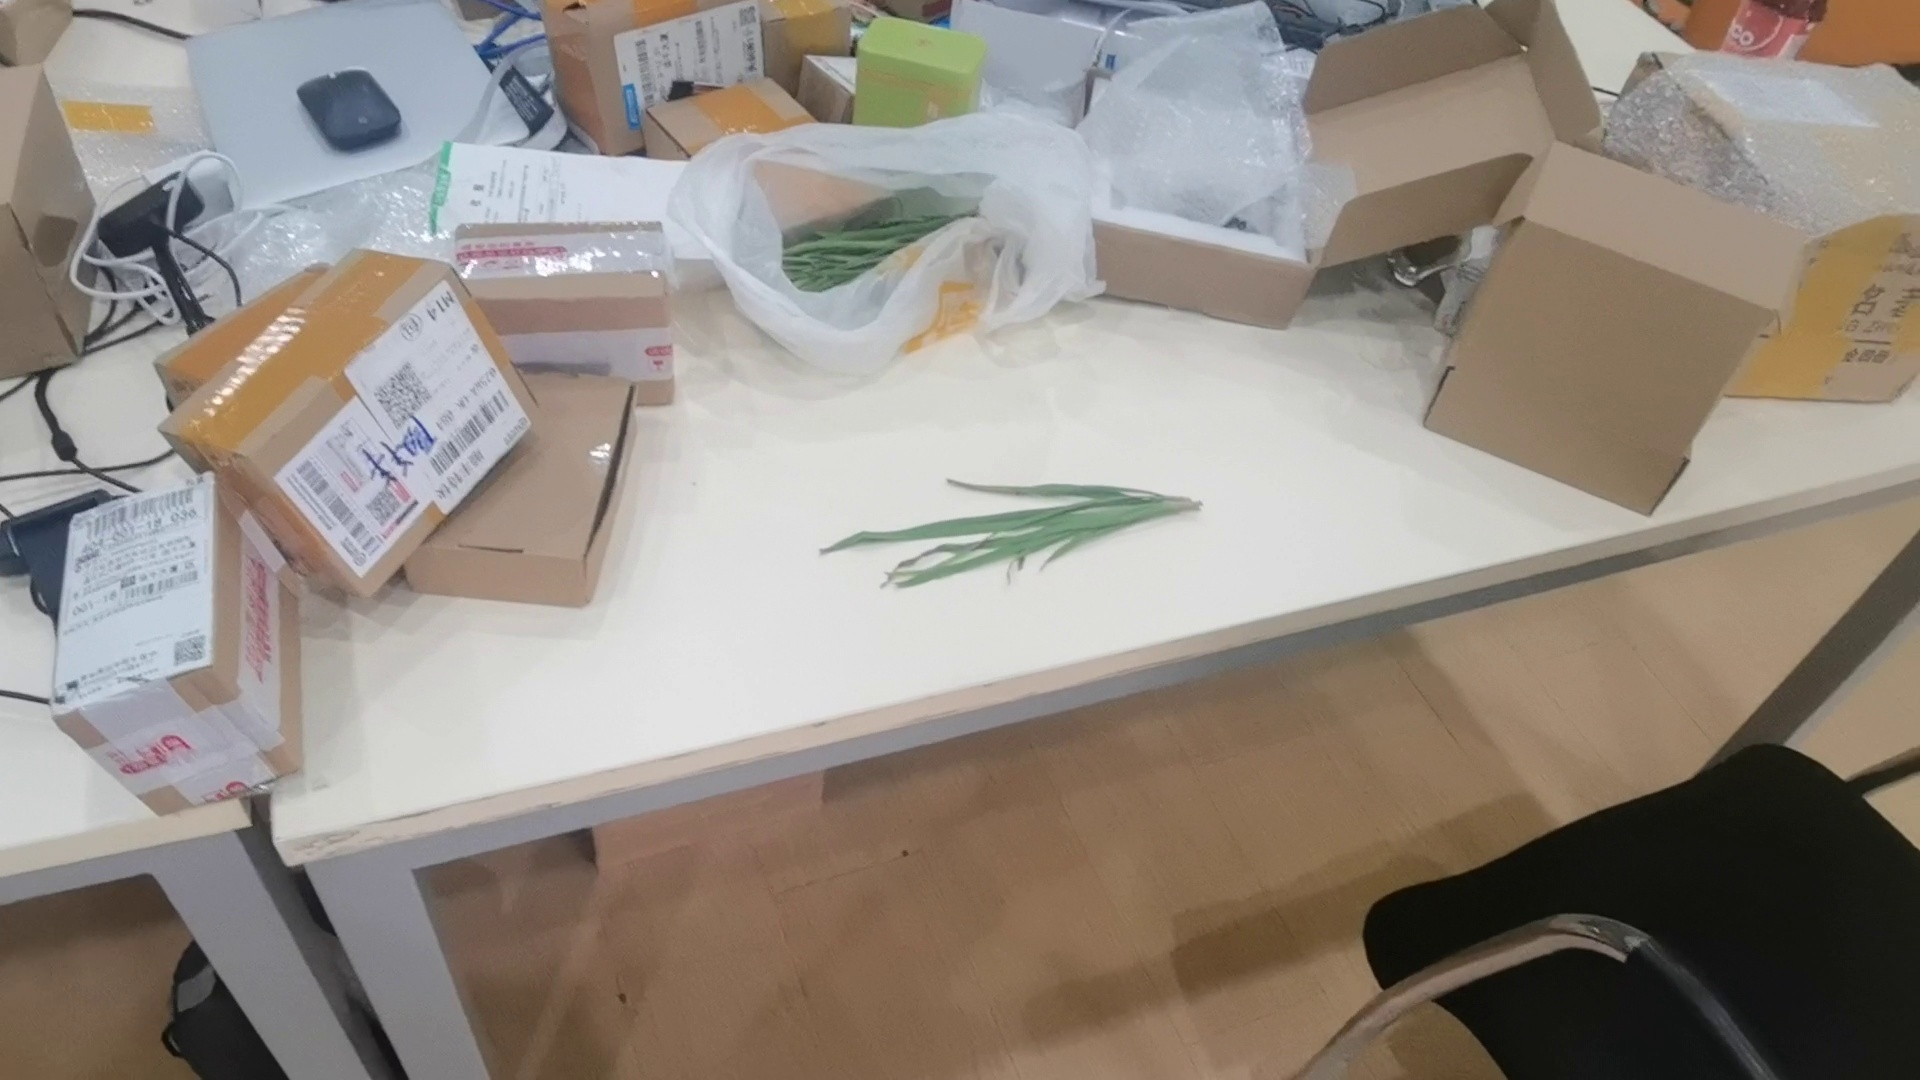chives: (812, 462, 1209, 604)
